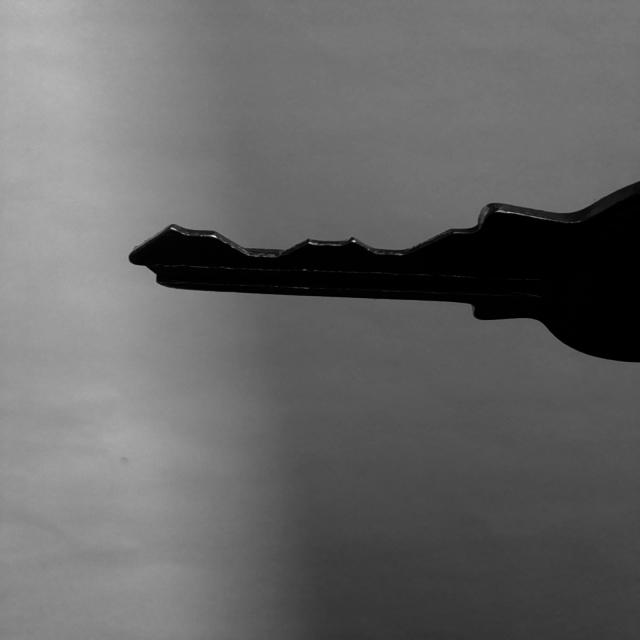KEY: (129, 183, 640, 362)
